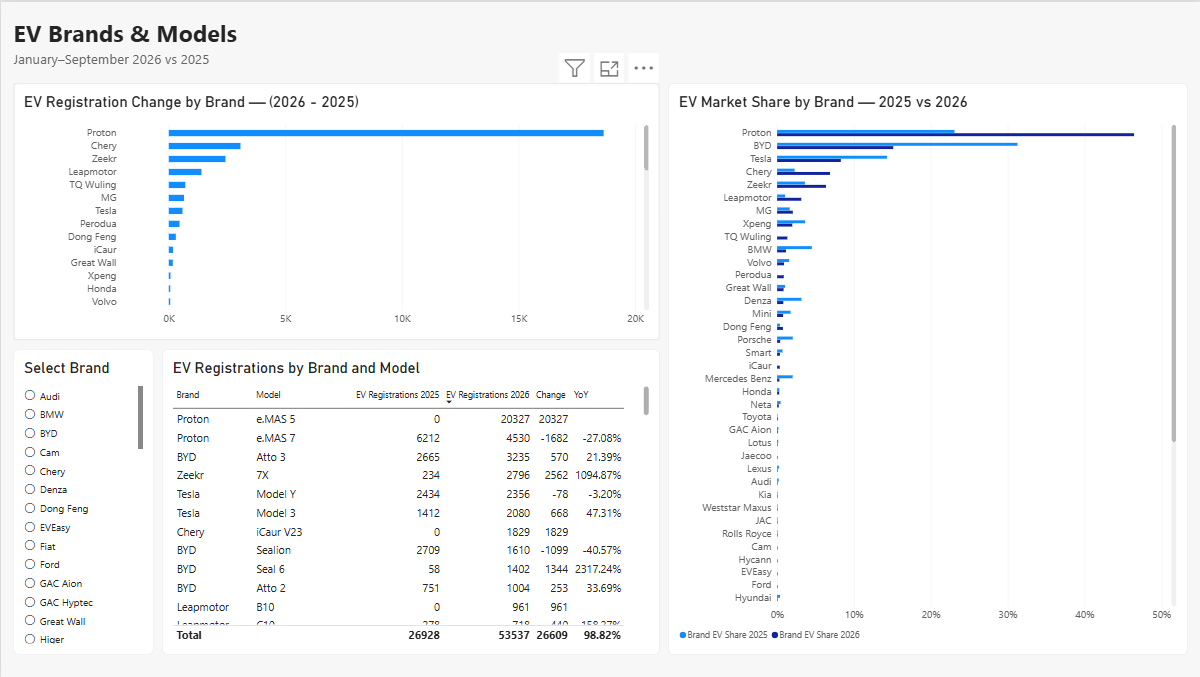

This screenshot's page, from the dashboard's own definition file:
{"tool":"powerbi","page":{"name":"Brands & Model","canvas":[1920,1080],"ordinal":1},"visuals":[{"type":"clusteredBarChart","title":"EV Registration Change — Top 5 Gains & Declines","fields":{"Category":["Registrations.maker"],"Y":["Registrations.EV Registration Change"]},"box":[1072.8,130.5,823,913.8],"z":0},{"type":"tableEx","title":"EV Registrations by Brand and Model","fields":{"Values":["Registrations.maker","Registrations.model","_Calculation.EV Registrations 2025 Display","_Calculation.EV Registrations 2026 Display","Registrations.EV Registration Change","Registrations.EV Registrations YoY"]},"box":[258,556,796,488],"z":1000},{"type":"listSlicer","title":"Select Brand","fields":{"Values":["Registrations.maker"]},"box":[20,556,224,488],"z":2000},{"type":"clusteredBarChart","title":"EV Market Share — Top 5 Brands in 2026","fields":{"Category":["Registrations.maker"],"Y":["_Calculation.Brand EV Share 2025","_Calculation.Brand EV Share 2026"]},"box":[20.8,130.5,1033,408.7],"z":3000},{"type":"textbox","box":[20,24,418,52],"z":4000},{"type":"textbox","box":[20,75.7,380,35.7],"z":5000}]}

Visuals, with their boxes in screenshot pixels (x1, y1, x2, y2), scaled from the page's 1920x1080 canvas onto the 1200x677 screenshot:
"EV Registration Change — Top 5 Gains & Declines" clusteredBarChart: 670, 82, 1185, 655
"EV Registrations by Brand and Model" tableEx: 161, 349, 659, 654
"Select Brand" listSlicer: 12, 349, 152, 654
"EV Market Share — Top 5 Brands in 2026" clusteredBarChart: 13, 82, 659, 338
textbox: 12, 15, 274, 48
textbox: 12, 47, 250, 70
